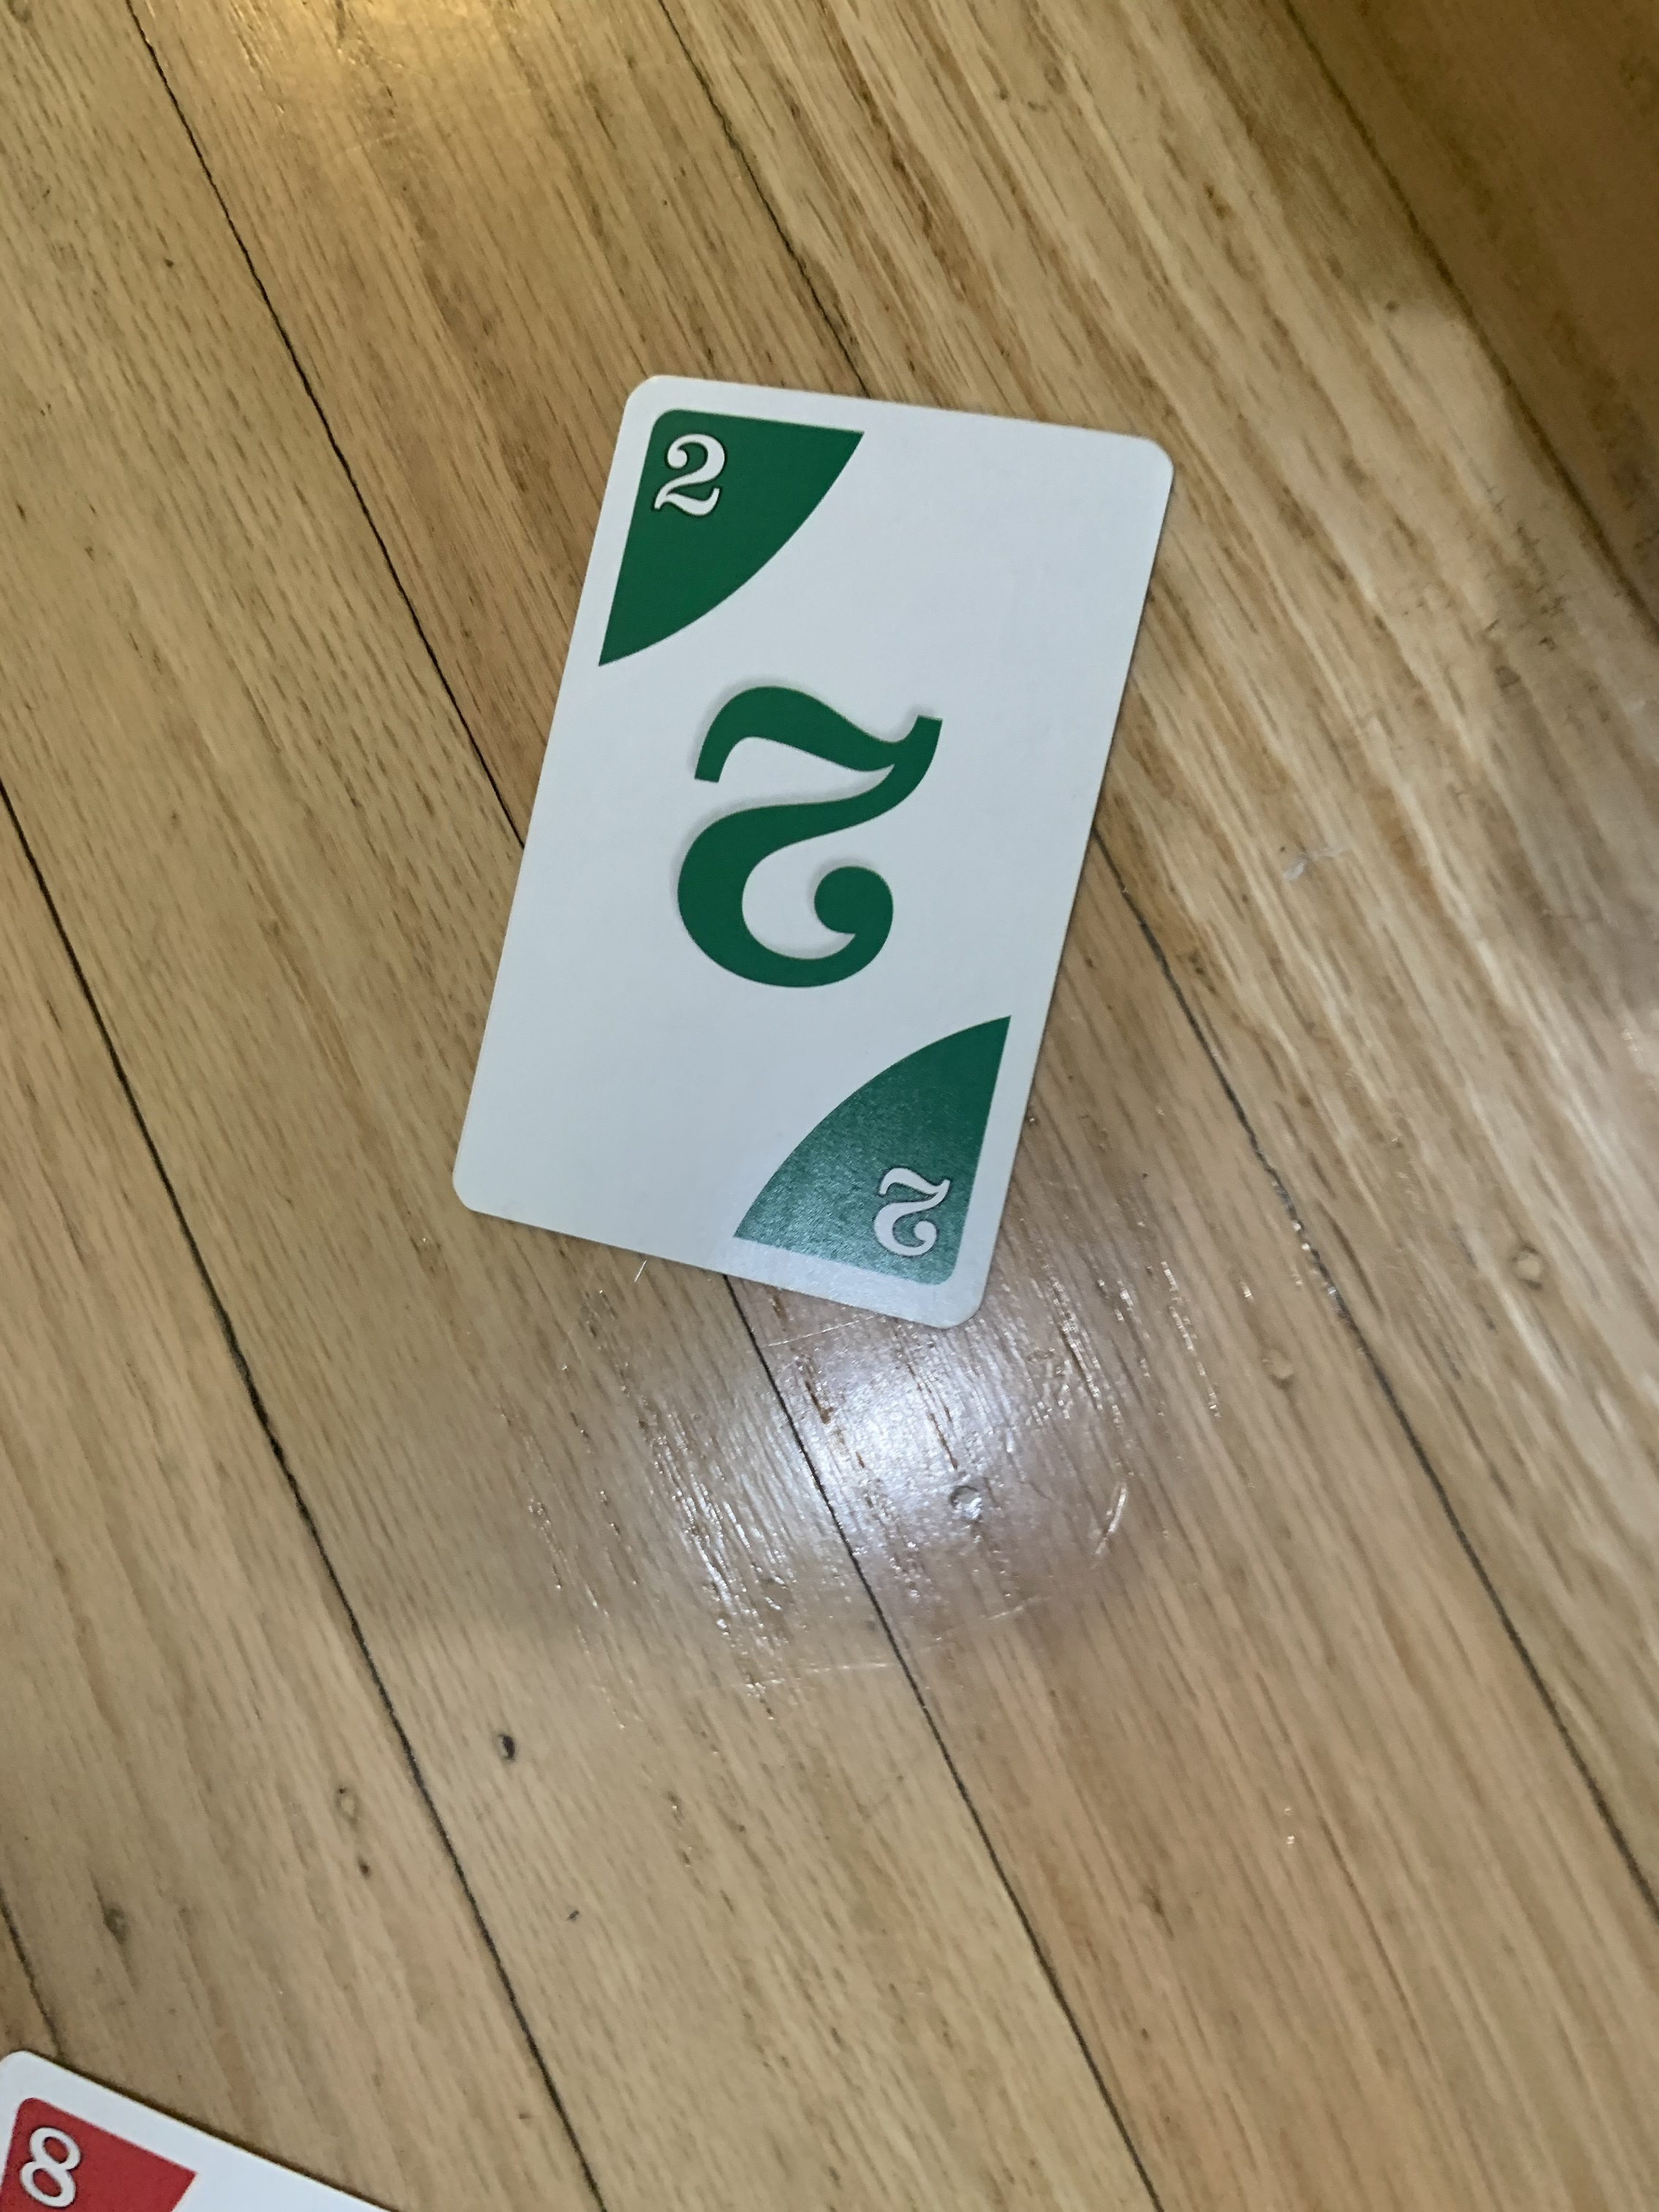two: (437, 362, 1192, 1334)
